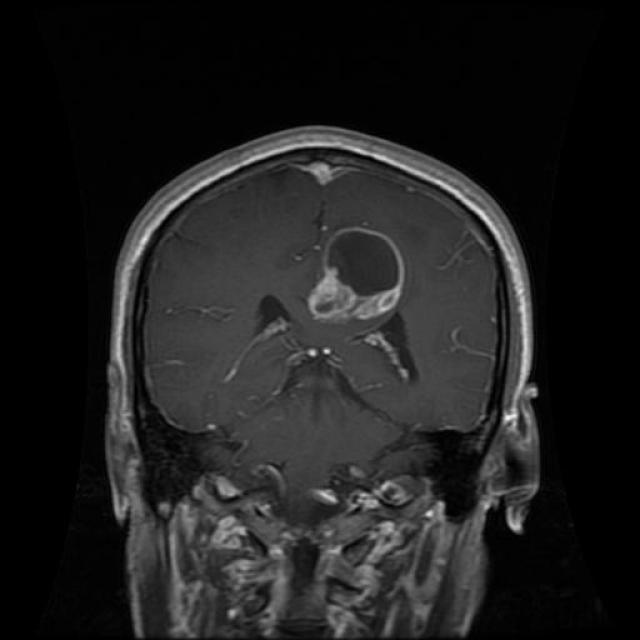Brain-Tumor: (307, 222, 413, 338)
